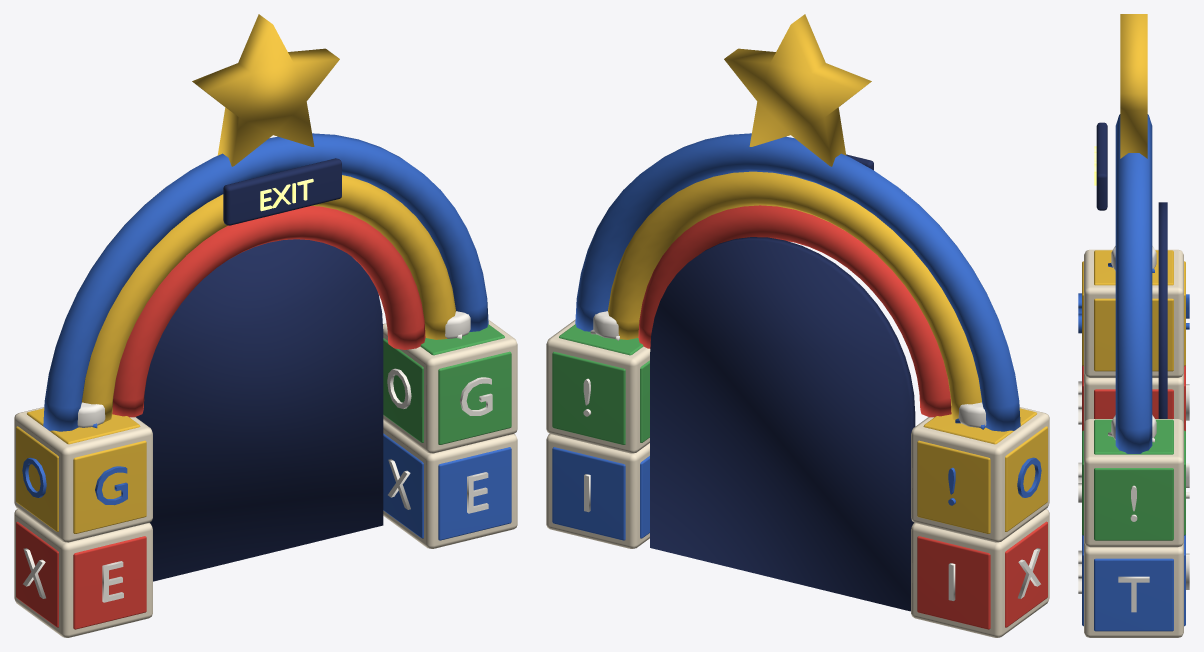
File: toy_portal_arch.glb
3 renders of one model, left to right at view 1: azimuth 30°, elevation 25°; view 2: azimuth 150°, elevation 25°; view 3: azimuth 270°, elevation 25°, orthographic. The views are drawn at different scales.
Visible parts, largest first — view 1: PortalArch; view 2: PortalArch; view 3: PortalArch.
Part boxes in pixels (x1,y1,x2,y2): PortalArch: [14, 14, 517, 637]; PortalArch: [546, 14, 1049, 637]; PortalArch: [1078, 14, 1189, 637].
Bounding box in the file's own units: 5.62 × 6.31 × 1.22.
